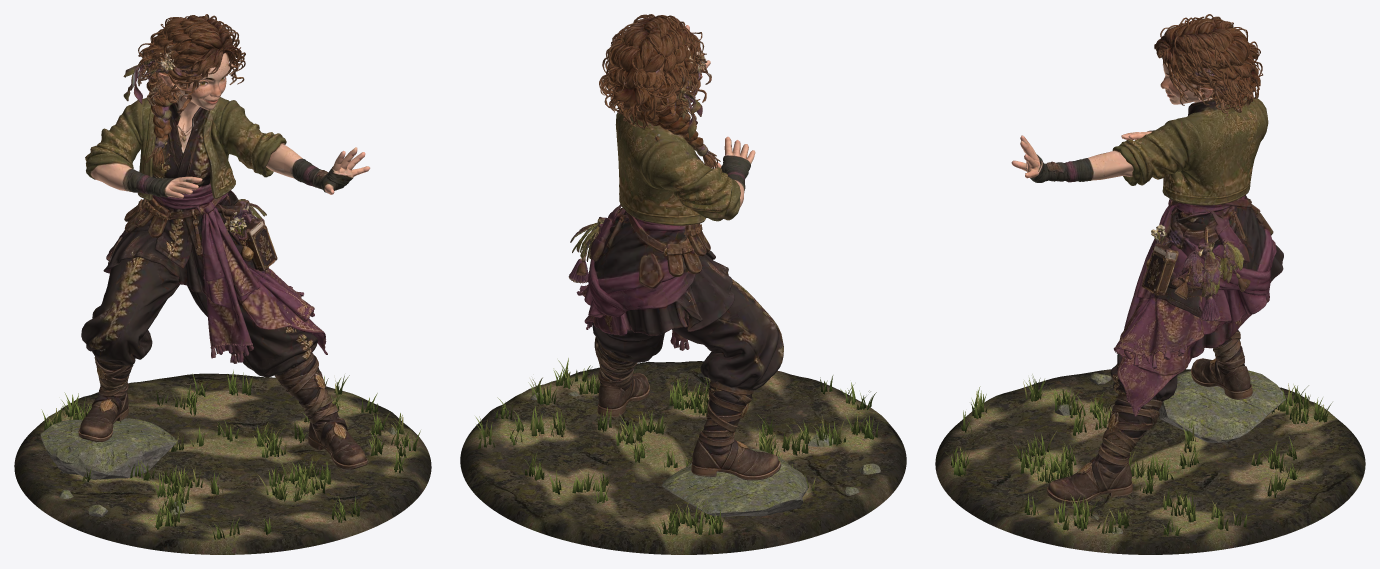
Rendered from willow-meshy.glb.
3 renders of one model, left to right at view 1: azimuth 30°, elevation 25°; view 2: azimuth 150°, elevation 25°; view 3: azimuth 270°, elevation 25°, orthographic. The views are drawn at different scales.
Visible parts, largest first — view 1: willow_lod0, ground, grass, rock; view 2: willow_lod0, ground, grass, rock; view 3: willow_lod0, ground, grass, rock.
Boxes of the visible parts, x1,y1,x2,y2 form: willow_lod0: [78, 14, 370, 469]; ground: [14, 373, 431, 554]; grass: [41, 370, 420, 539]; rock: [40, 418, 397, 517]; willow_lod0: [568, 14, 783, 480]; ground: [460, 361, 906, 554]; grass: [475, 358, 878, 535]; rock: [530, 391, 880, 516]; willow_lod0: [1011, 14, 1283, 504]; ground: [935, 369, 1365, 554]; grass: [945, 374, 1332, 535]; rock: [1055, 370, 1285, 534].
Size of what is drawn, in the model's own units: 0.718 by 0.8318 by 0.718.
Materials: 4 (3 with a texture image).
